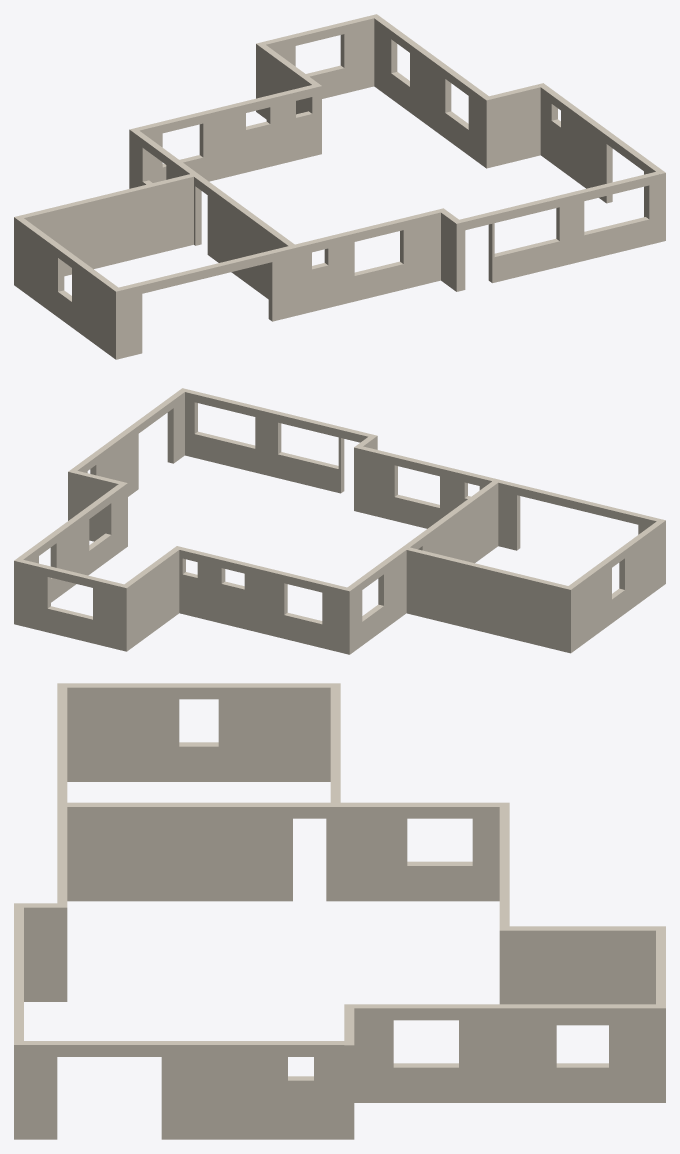
The model's file is walls_exterior.glb.
3 views of the same model, one above another, from view 1: azimuth 30°, elevation 25°; view 2: azimuth 150°, elevation 25°; view 3: azimuth 270°, elevation 25° (orthographic). The views are drawn at different scales.
Parts seen in each view (by area): view 1: walls_exterior.ext.garage.north, walls_exterior.ext.north.west, walls_exterior.ext.south.main, walls_exterior.ext.south.wing, walls_exterior.ext.garage.west, walls_exterior.ext.west, walls_exterior.ext.east, walls_exterior.ext.garage.south, walls_exterior.ext.wing.north, walls_exterior.ext.east.upper, walls_exterior.ext.wing.east, walls_exterior.ext.north.laundry (+2 smaller); view 2: walls_exterior.ext.garage.north, walls_exterior.ext.north.west, walls_exterior.ext.west, walls_exterior.ext.south.main, walls_exterior.ext.garage.west, walls_exterior.ext.wing.north, walls_exterior.ext.south.wing, walls_exterior.ext.east, walls_exterior.ext.wing.west, walls_exterior.ext.east.upper, walls_exterior.ext.garage.south, walls_exterior.ext.north.laundry (+2 smaller); view 3: walls_exterior.ext.west, walls_exterior.ext.garage.west, walls_exterior.ext.east, walls_exterior.ext.wing.east, walls_exterior.ext.wing.west, walls_exterior.ext.east.upper, walls_exterior.ext.step, walls_exterior.ext.garage.north, walls_exterior.ext.south.main, walls_exterior.ext.south.wing, walls_exterior.ext.north.laundry, walls_exterior.ext.north.west (+2 smaller).
Part boxes in pixels (left/top/right/bottom): walls_exterior.ext.garage.north: left=14, top=174, right=193, bottom=285; walls_exterior.ext.north.west: left=129, top=85, right=321, bottom=188; walls_exterior.ext.south.main: left=453, top=172, right=659, bottom=290; walls_exterior.ext.south.wing: left=295, top=210, right=440, bottom=314; walls_exterior.ext.garage.west: left=14, top=215, right=121, bottom=359; walls_exterior.ext.west: left=129, top=128, right=298, bottom=299; walls_exterior.ext.east: left=537, top=83, right=665, bottom=242; walls_exterior.ext.garage.south: left=112, top=246, right=298, bottom=359; walls_exterior.ext.wing.north: left=256, top=14, right=379, bottom=112; walls_exterior.ext.east.upper: left=427, top=57, right=492, bottom=168; walls_exterior.ext.wing.east: left=374, top=17, right=436, bottom=127; walls_exterior.ext.north.laundry: left=483, top=84, right=540, bottom=166; walls_exterior.ext.garage.north: left=406, top=547, right=574, bottom=652; walls_exterior.ext.north.west: left=179, top=547, right=352, bottom=654; walls_exterior.ext.west: left=344, top=479, right=501, bottom=654; walls_exterior.ext.south.main: left=185, top=389, right=377, bottom=493; walls_exterior.ext.garage.west: left=565, top=519, right=665, bottom=653; walls_exterior.ext.wing.north: left=14, top=558, right=129, bottom=651; walls_exterior.ext.south.wing: left=354, top=446, right=495, bottom=528; walls_exterior.ext.east: left=68, top=388, right=187, bottom=520; walls_exterior.ext.wing.west: left=121, top=546, right=181, bottom=651; walls_exterior.ext.east.upper: left=70, top=483, right=127, bottom=586; walls_exterior.ext.garage.south: left=498, top=480, right=659, bottom=550; walls_exterior.ext.north.laundry: left=68, top=470, right=127, bottom=548; walls_exterior.ext.west: left=57, top=802, right=509, bottom=901; walls_exterior.ext.garage.west: left=57, top=683, right=340, bottom=781; walls_exterior.ext.east: left=14, top=1041, right=354, bottom=1139; walls_exterior.ext.wing.east: left=499, top=1004, right=665, bottom=1102; walls_exterior.ext.wing.west: left=499, top=926, right=655, bottom=1025; walls_exterior.ext.east.upper: left=354, top=1004, right=509, bottom=1102; walls_exterior.ext.step: left=14, top=903, right=67, bottom=1001; walls_exterior.ext.garage.north: left=330, top=687, right=340, bottom=901; walls_exterior.ext.south.main: left=14, top=907, right=23, bottom=1139; walls_exterior.ext.south.wing: left=57, top=807, right=67, bottom=1001; walls_exterior.ext.north.laundry: left=344, top=1004, right=354, bottom=1139; walls_exterior.ext.north.west: left=499, top=807, right=509, bottom=926.
Bounding box in the file's own units: 19.7 × 2.4 × 15.
